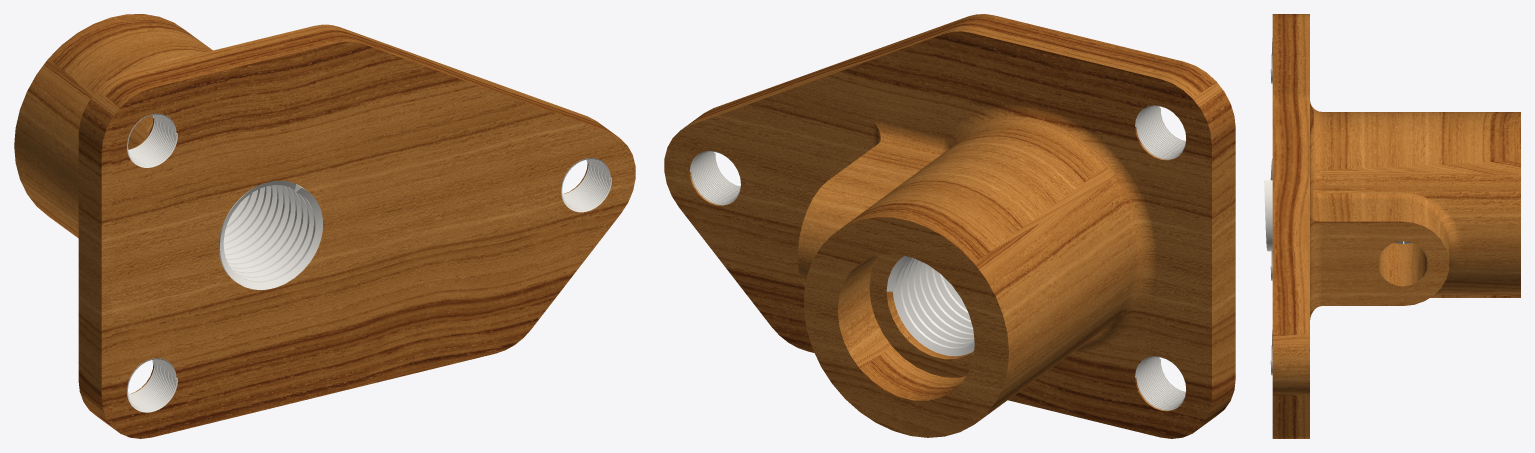
The model's file is Practice50_1.glb.
3 views of the same model, side by side, from view 1: azimuth 30°, elevation 25°; view 2: azimuth 150°, elevation 25°; view 3: azimuth 270°, elevation 25° (orthographic). The views are drawn at different scales.
Parts seen in each view (by area): view 1: Part 2, Part 3; view 2: Part 2, Part 3; view 3: Part 2, Part 3.
Boxes of the visible parts, bbox=[...] form: Part 2: bbox=[14, 14, 635, 438]; Part 3: bbox=[126, 113, 611, 412]; Part 2: bbox=[664, 14, 1235, 438]; Part 3: bbox=[689, 105, 1186, 410]; Part 2: bbox=[1272, 14, 1520, 438]; Part 3: bbox=[1264, 37, 1410, 375].
Size of the model in its own units: 0.1599 by 0.1 by 0.0828.
2 materials, 1 textured.
